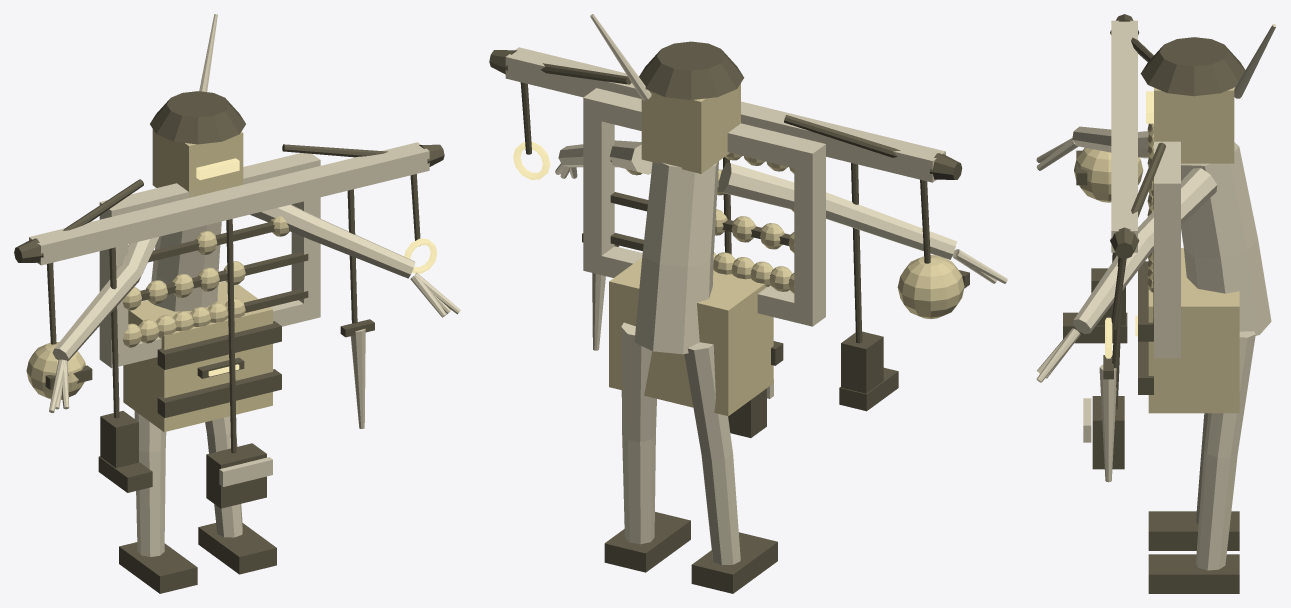
The model's file is tallyman.glb.
3 views of the same model, side by side, from view 1: azimuth 30°, elevation 25°; view 2: azimuth 150°, elevation 25°; view 3: azimuth 270°, elevation 25° (orthographic). The views are drawn at different scales.
Visible parts, largest first — view 1: tallyman_bone, tallyman_dark, tallyman_body, tallyman_glow; view 2: tallyman_bone, tallyman_body, tallyman_dark, tallyman_glow; view 3: tallyman_bone, tallyman_dark, tallyman_body, tallyman_glow.
Boxes of the visible parts, x1=… form: tallyman_bone: x1=29, y1=14, x2=460, y2=556; tallyman_dark: x1=14, y1=91, x2=444, y2=593; tallyman_body: x1=26, y1=129, x2=289, y2=432; tallyman_glow: x1=196, y1=158, x2=437, y2=376; tallyman_bone: x1=505, y1=14, x2=1007, y2=564; tallyman_body: x1=609, y1=83, x2=964, y2=416; tallyman_dark: x1=489, y1=41, x2=969, y2=593; tallyman_glow: x1=513, y1=141, x2=550, y2=179; tallyman_bone: x1=1036, y1=20, x2=1276, y2=570; tallyman_dark: x1=1063, y1=14, x2=1245, y2=593; tallyman_body: x1=1074, y1=87, x2=1239, y2=413; tallyman_glow: x1=1105, y1=91, x2=1153, y2=358.
Bounding box in the file's own units: 1.89 × 2.15 × 0.8244.
